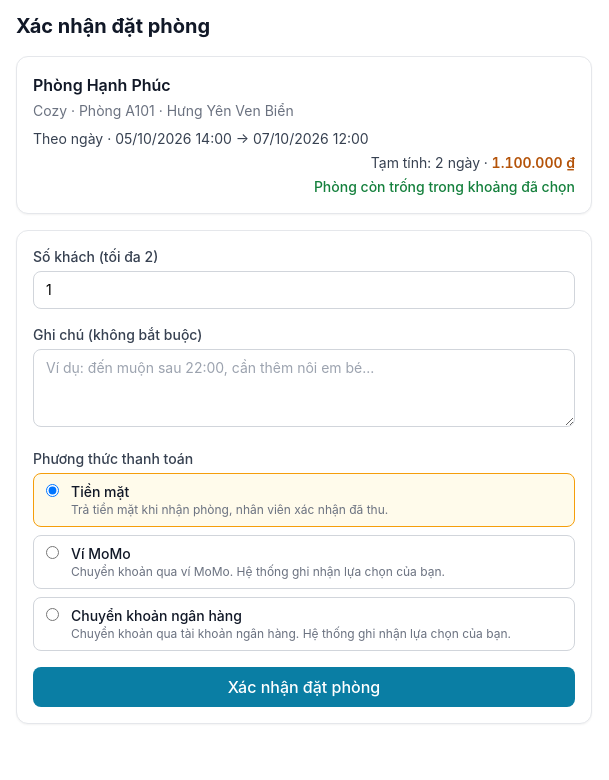
Scenario: Booking - tao don › TrungPhutChot_HienLoiRoot_KhongChuyenTrang
This screenshot has width=609, height=780.
Check: the heading "Xác nhận đặt phòng" is shown, box top-left (16, 14), bottom-right (210, 38)
Check: the text "Phòng còn trống trong khoảng đã chọn" is shown, box top-left (314, 178), bottom-right (575, 195)
Click the button "Xác nhận đặt phòng" at (304, 687), box top-left (33, 667), bottom-right (575, 707)
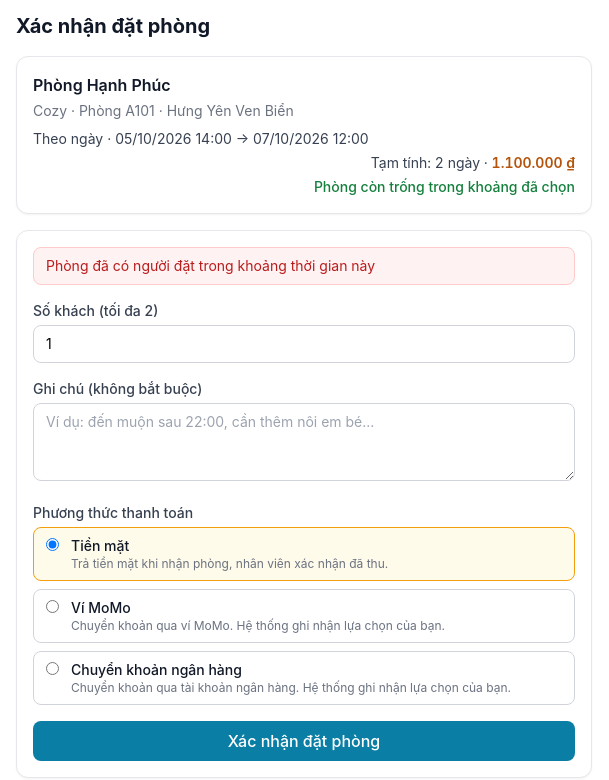
Check: the text "Phòng đã có người đặt trong khoảng thời gian này" is shown, box top-left (33, 247), bottom-right (575, 285)
